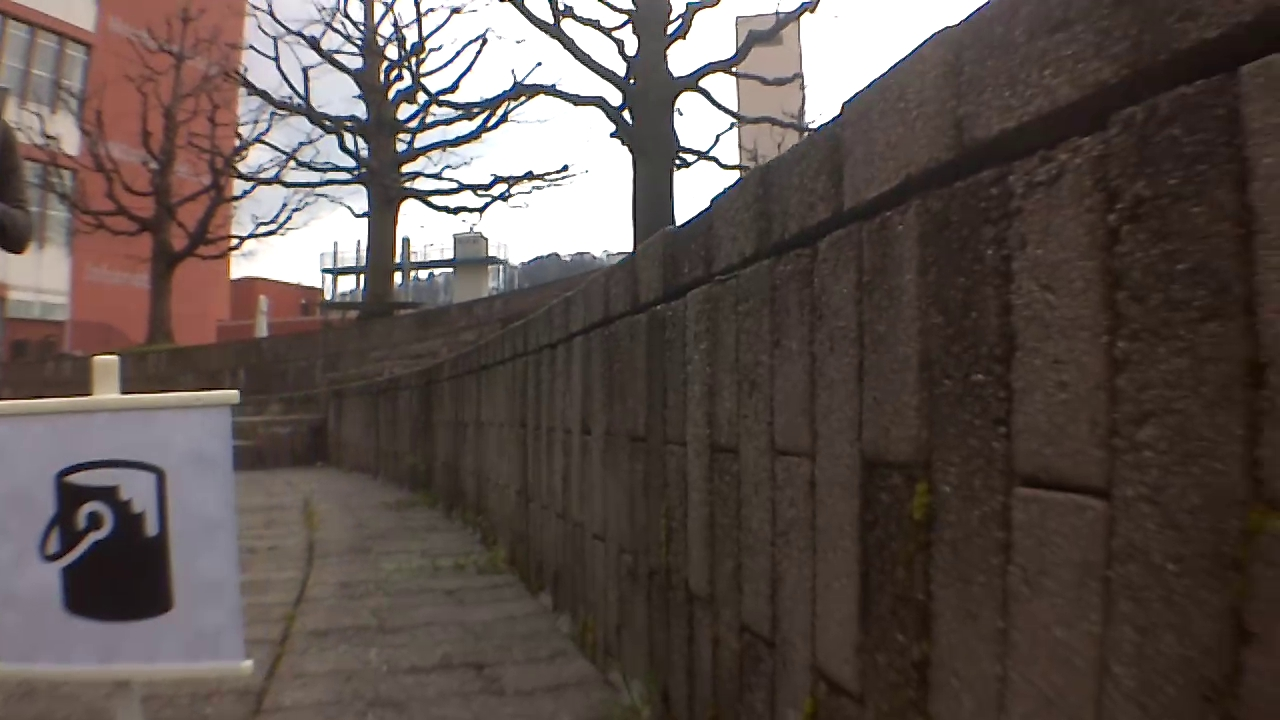bucket: (35, 453, 171, 630)
